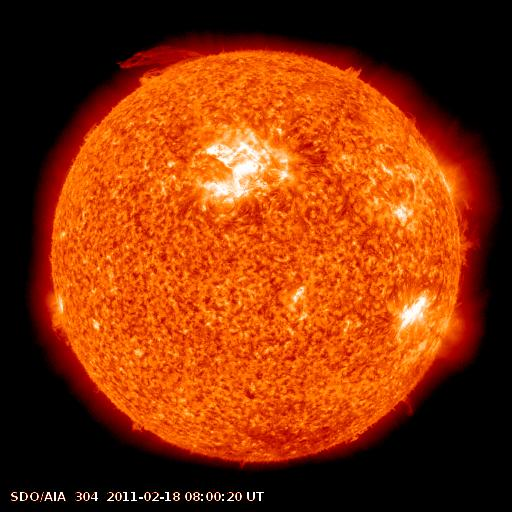prominence: (110, 38, 222, 86), (385, 382, 433, 428), (447, 209, 481, 267), (331, 52, 377, 90)
